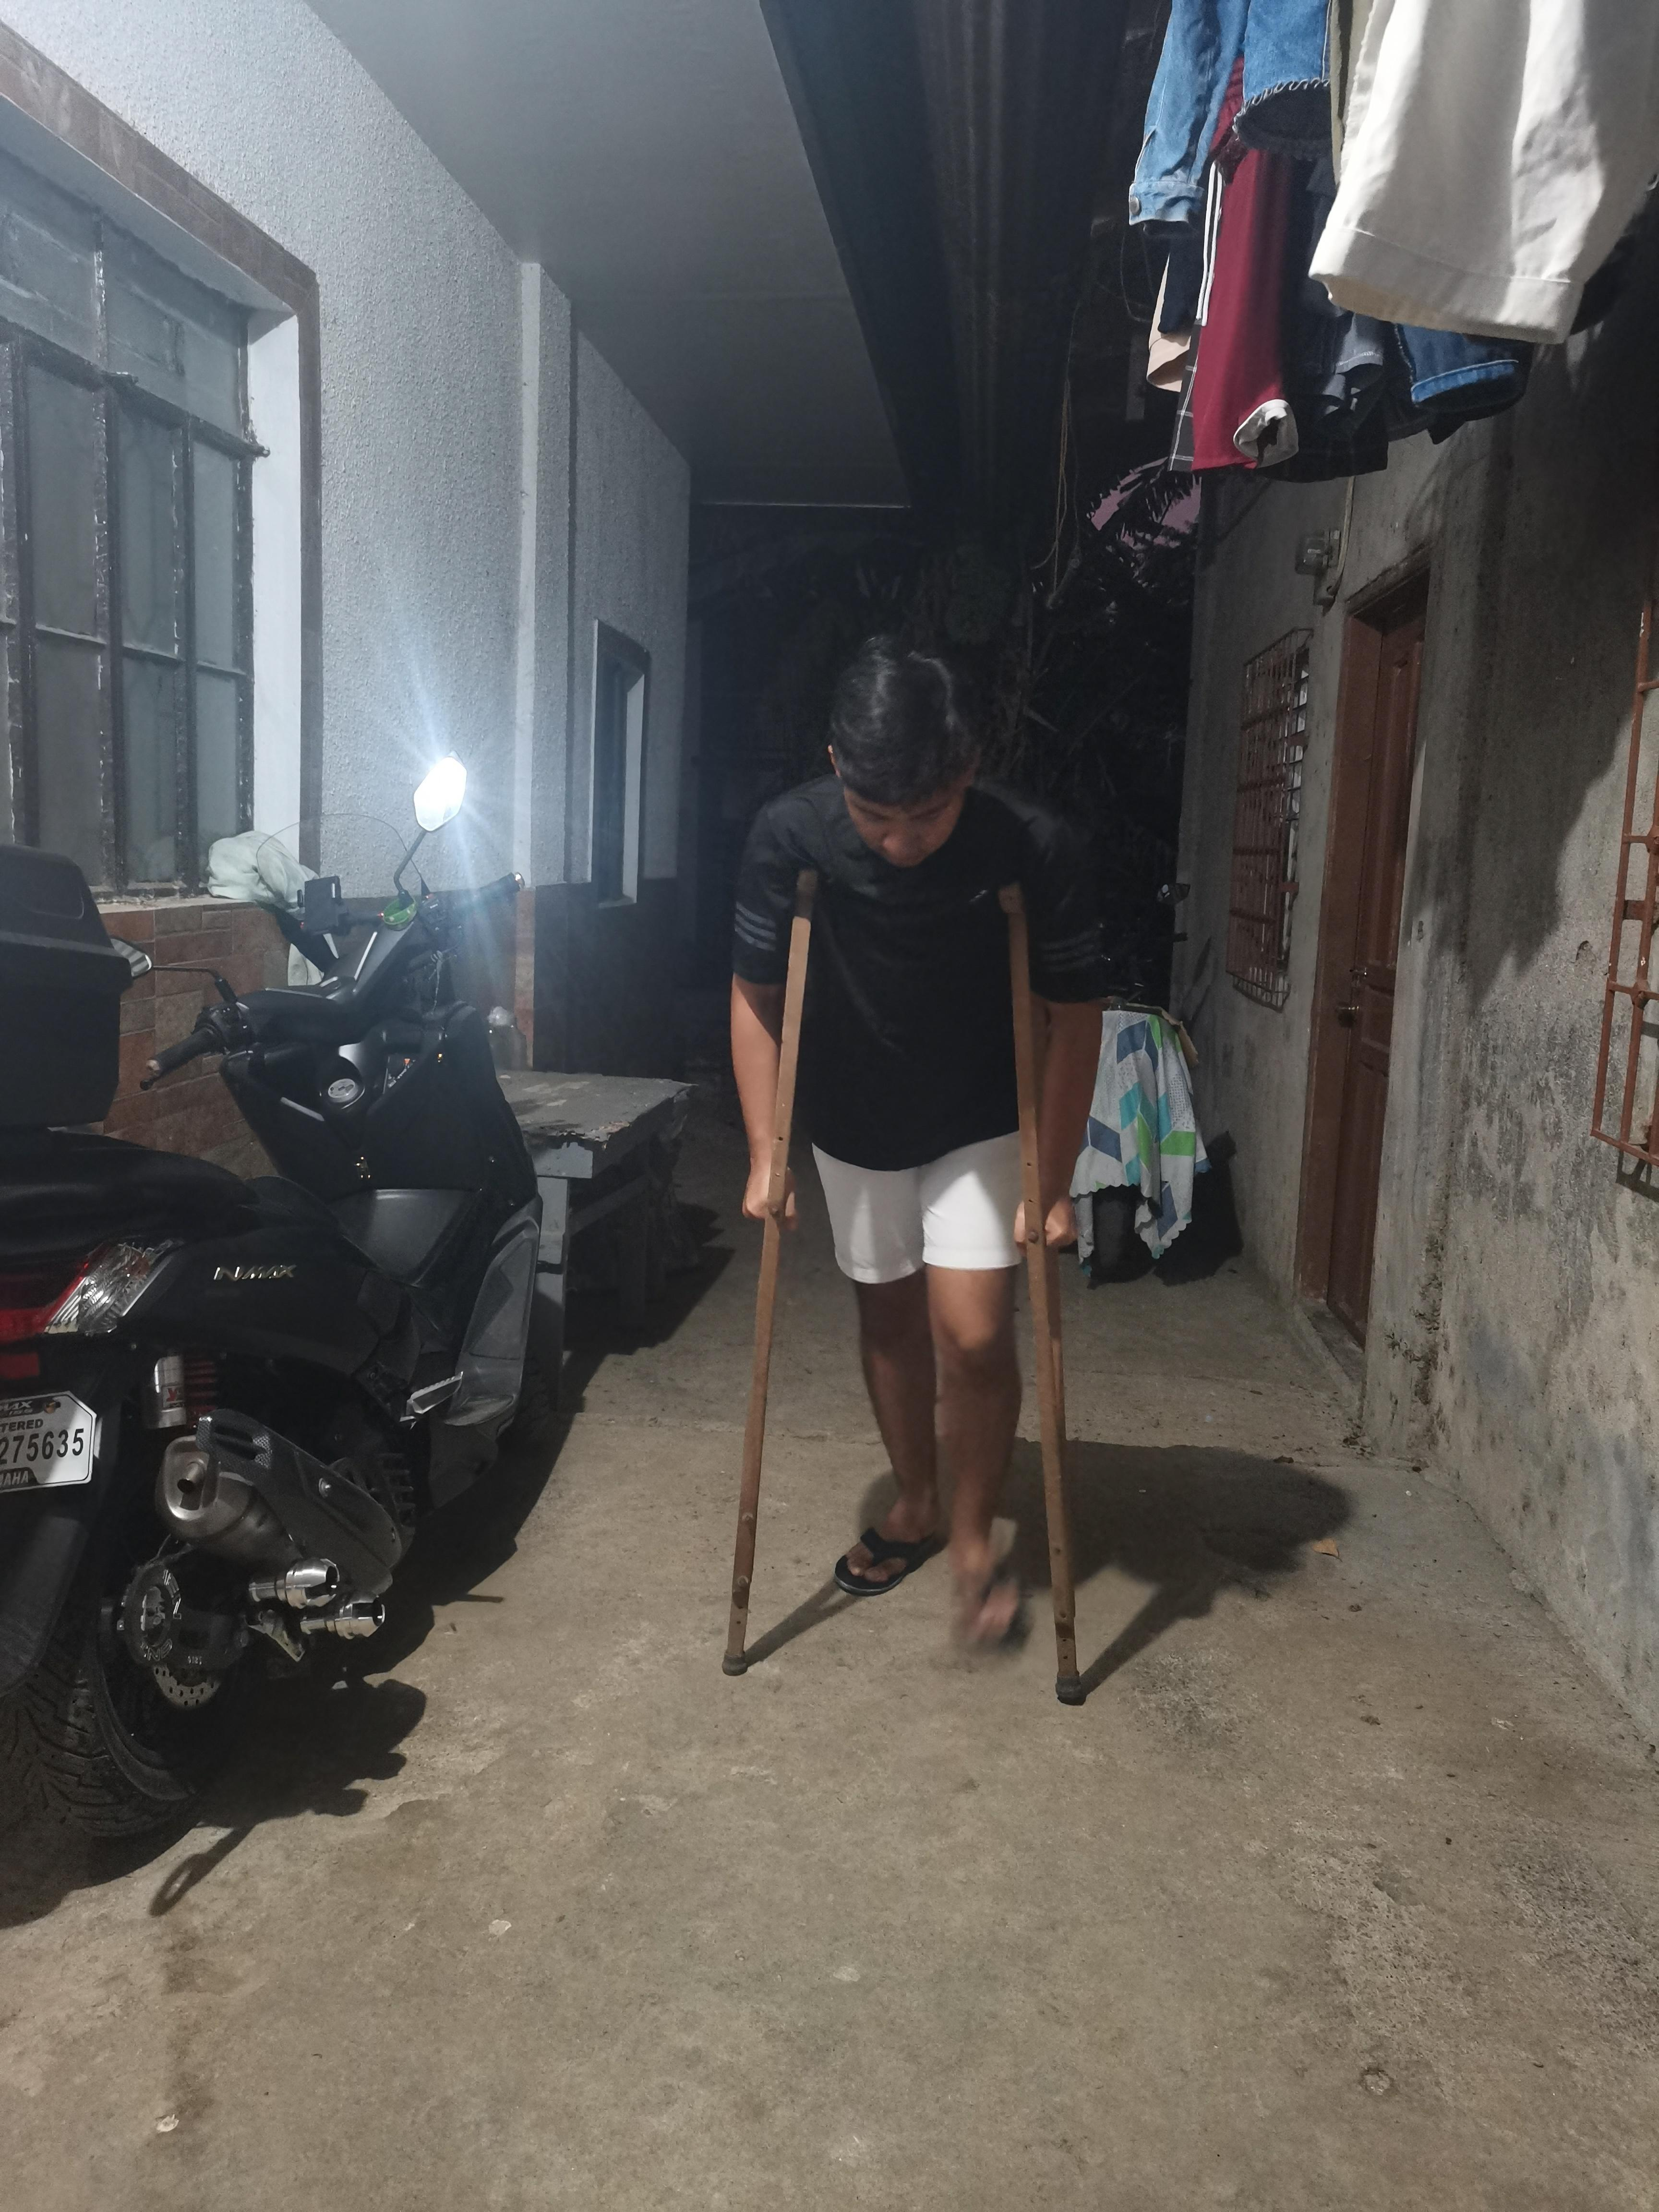crutches: (711, 606, 1121, 1731)
